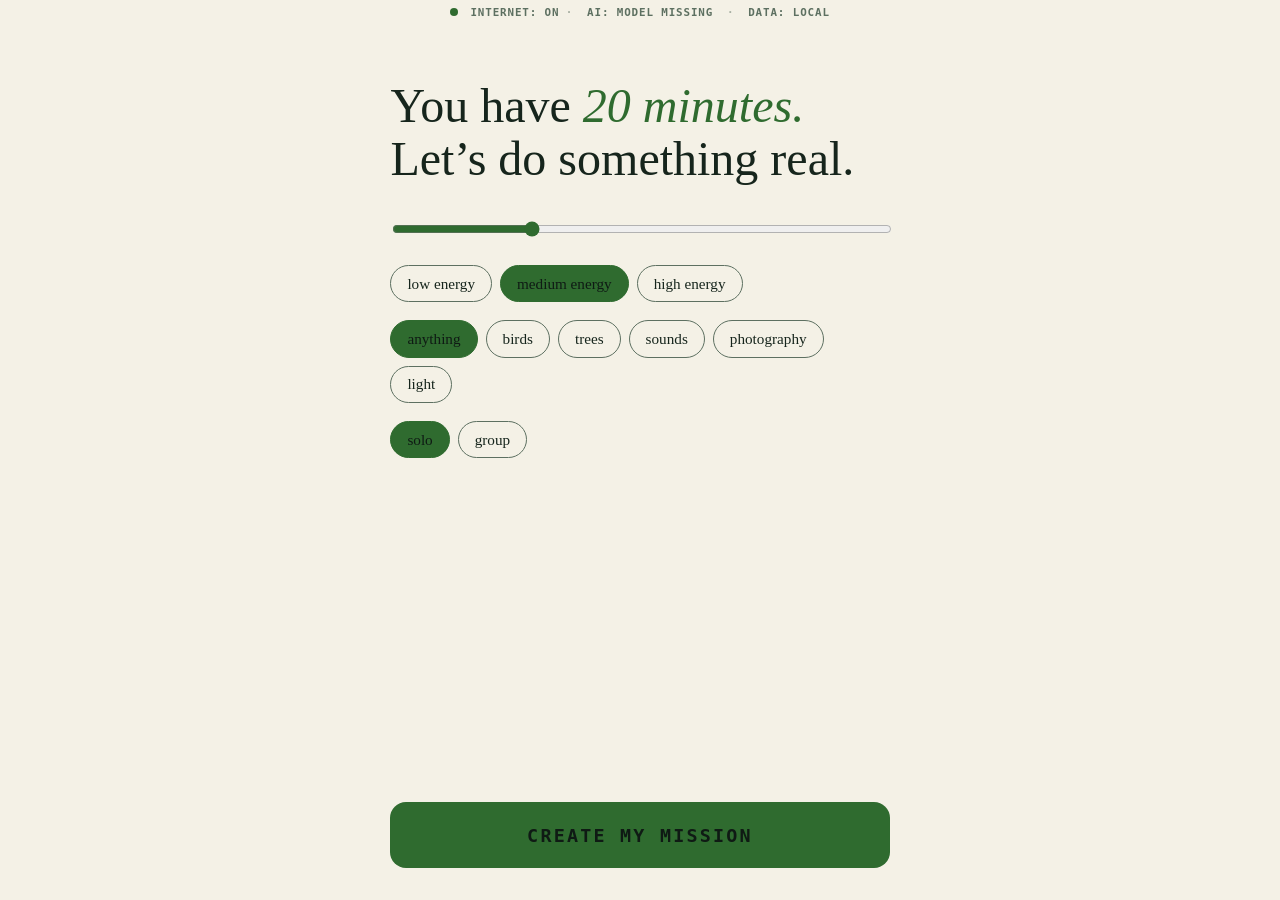
Test: server failure shows error and returns home, not a crash
Click the button "CREATE MY MISSION".
click(640, 835)  # box left=390, top=802, right=890, bottom=868
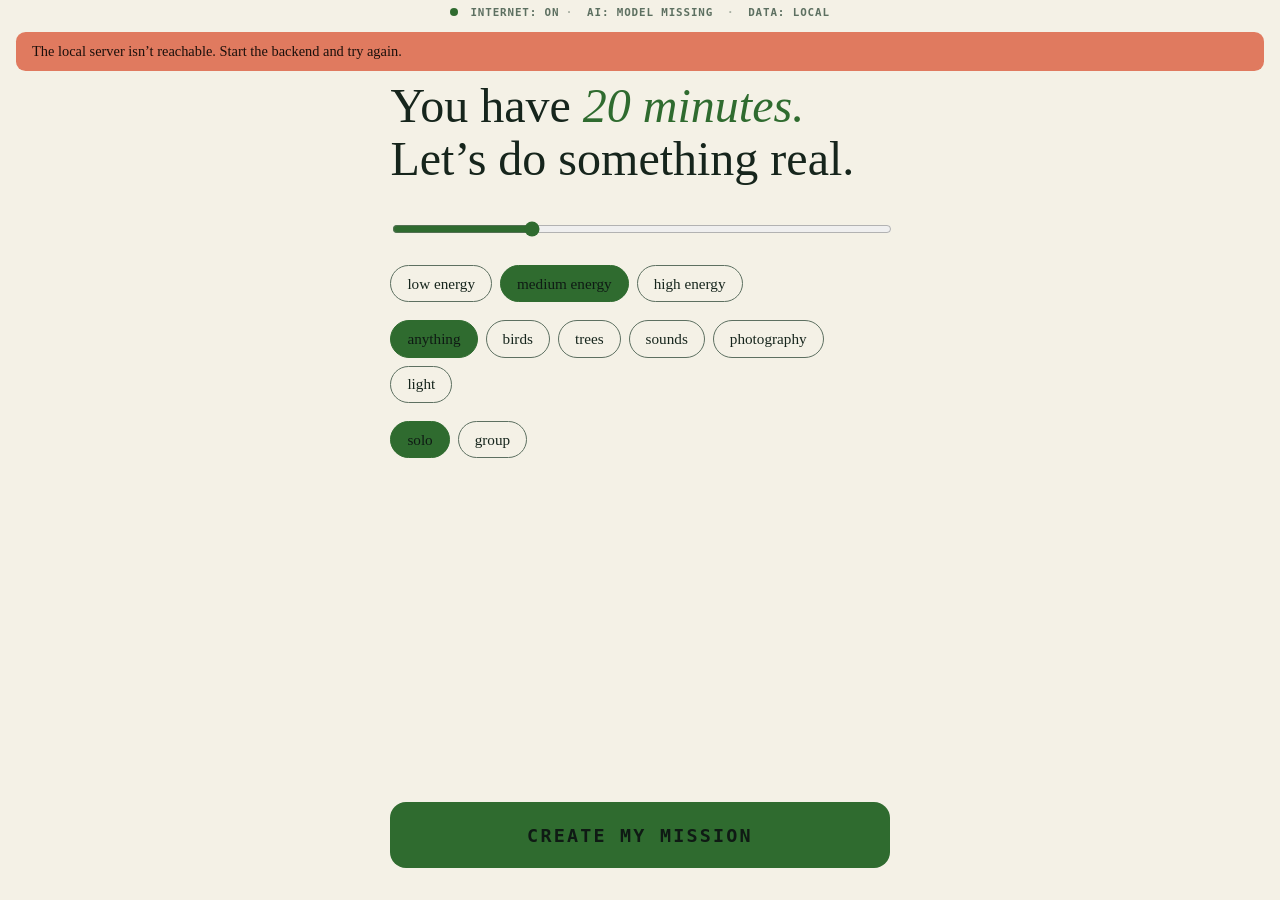
Expected: the message "The local server isn’t reachable. Start the backend and try again." is shown, left=16, top=32, right=1264, bottom=71
